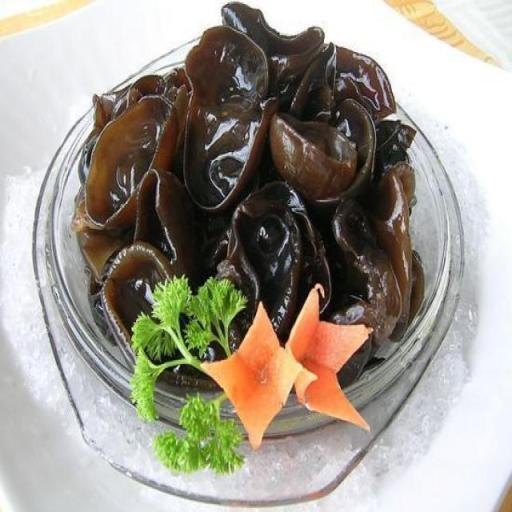mushroom: (75, 2, 425, 395)
